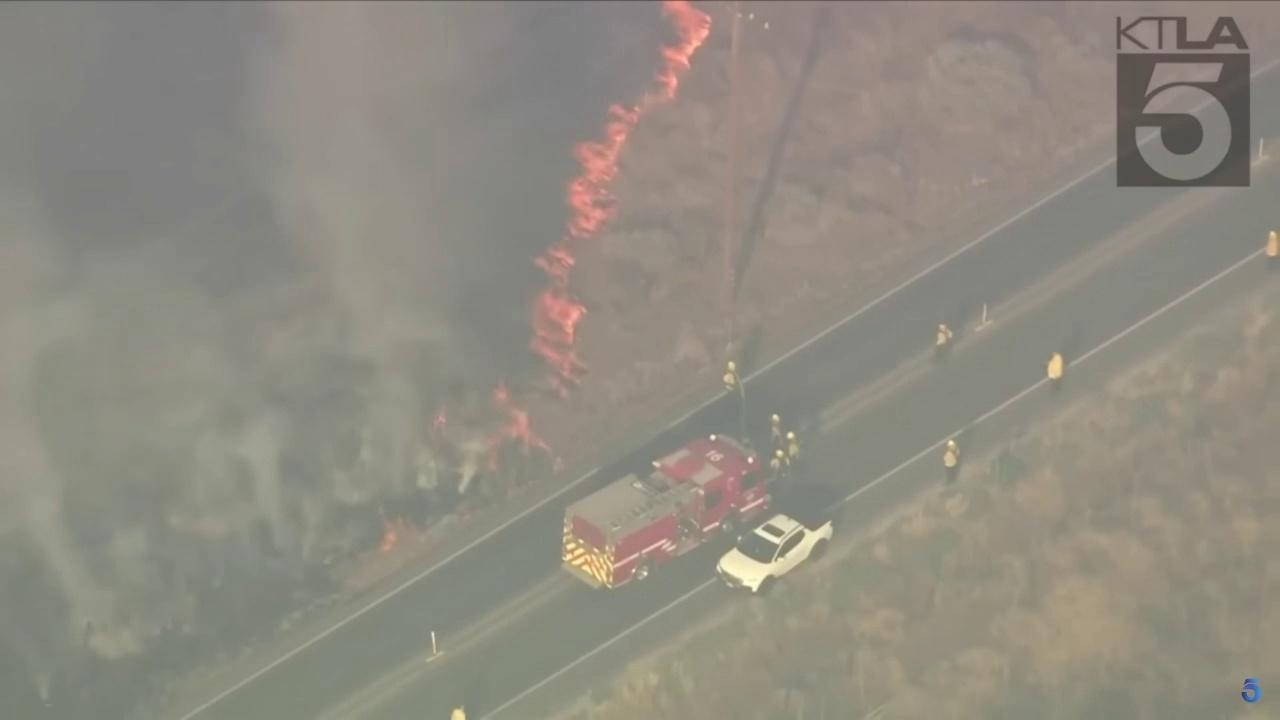fire: (526, 0, 713, 397), (479, 389, 563, 474), (381, 525, 400, 554), (430, 412, 448, 432)
smoke: (0, 0, 669, 720)
